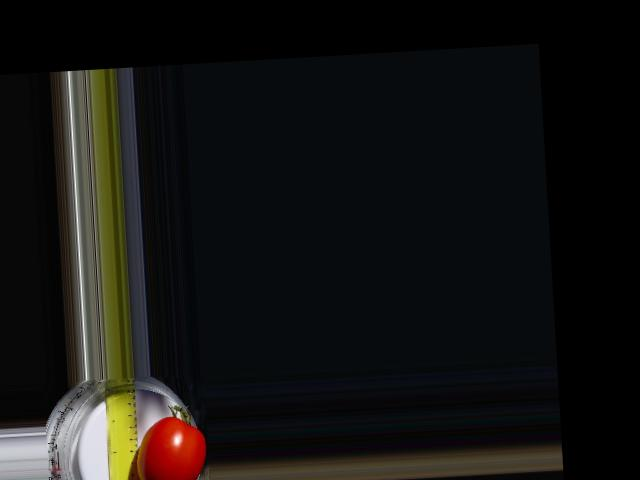tomato: (132, 413, 209, 480)
